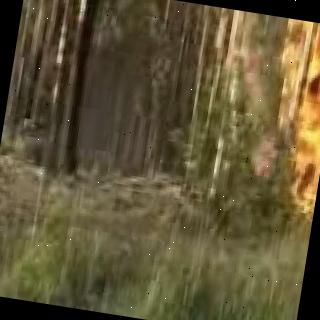fire: (259, 114, 320, 250), (275, 18, 320, 113)
